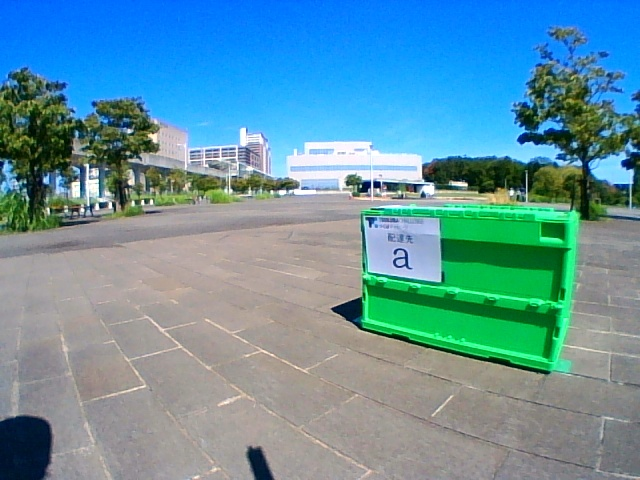green_box: (362, 204, 578, 374)
tag_a: (369, 220, 439, 270)
